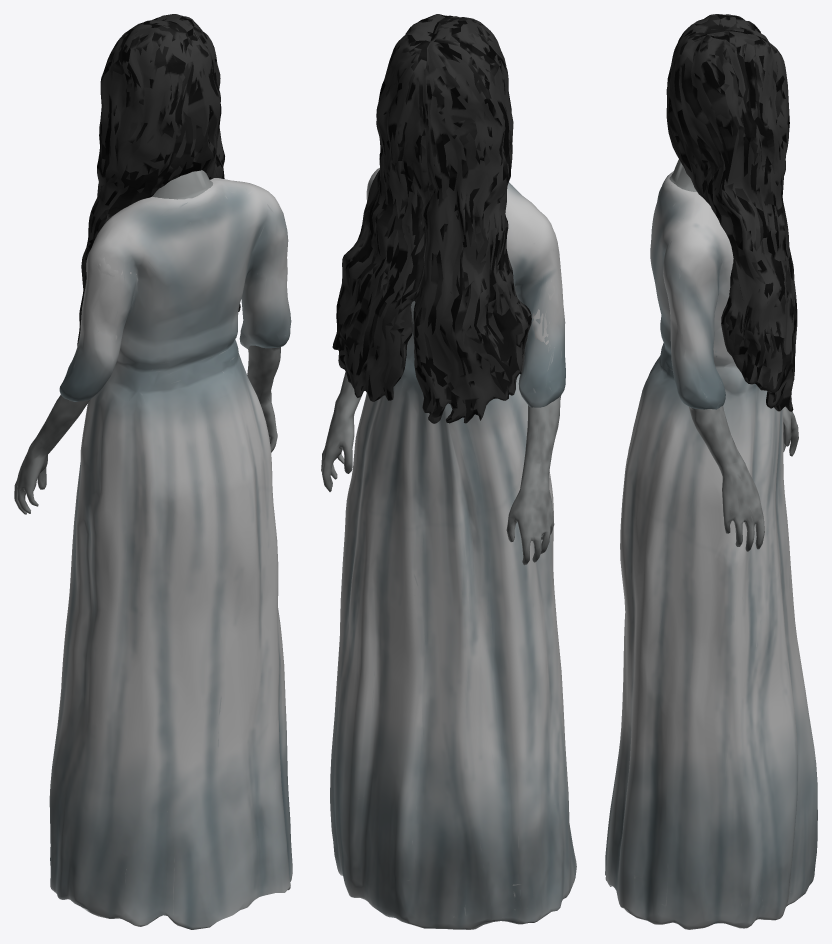
The model's file is sadako2.fbx.
3 views of the same model, side by side, from view 1: azimuth 30°, elevation 25°; view 2: azimuth 150°, elevation 25°; view 3: azimuth 270°, elevation 25° (orthographic).
Visible parts, largest first — view 1: sadako; view 2: sadako; view 3: sadako.
Part boxes in pixels (x1,y1,x2,y2): sadako: [14, 14, 292, 929]; sadako: [321, 14, 576, 929]; sadako: [605, 14, 817, 929].
Size of the model in its own units: 29.47 by 102 by 22.71.
6 materials, 4 textured.
